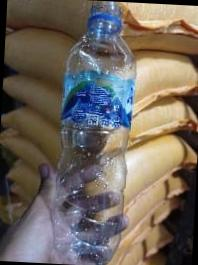Plastik: (53, 1, 134, 264)
